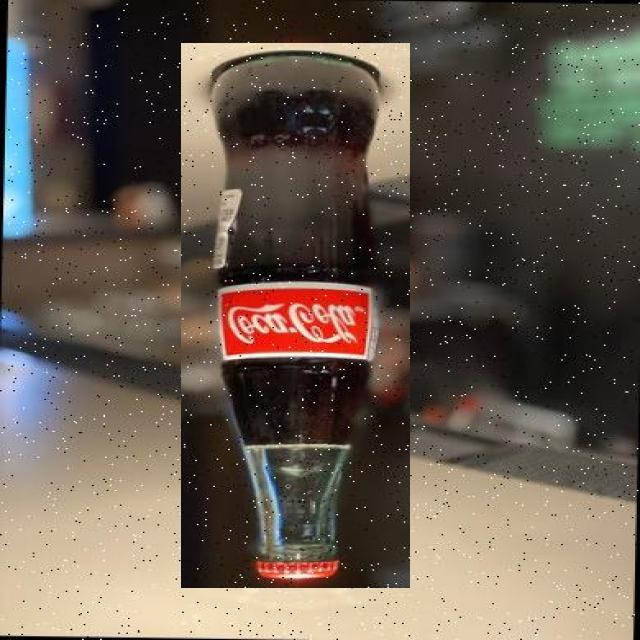coca-cola: (181, 43, 410, 588)
